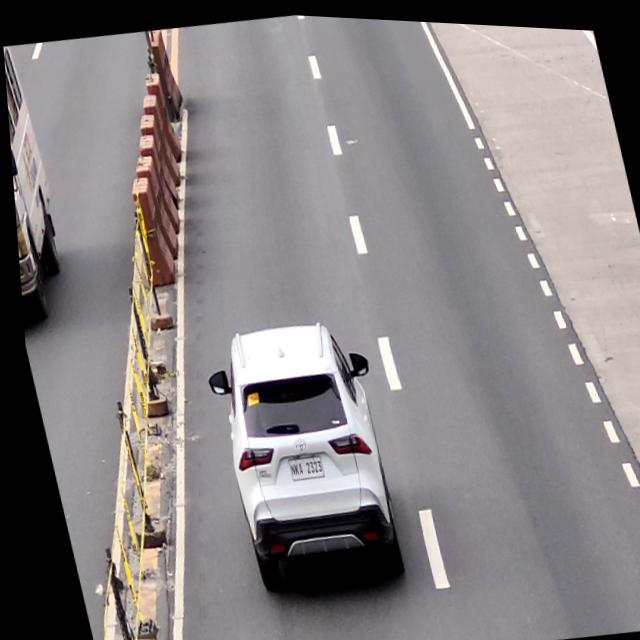Car: (192, 307, 413, 603)
License-Plate: (281, 451, 318, 478)
